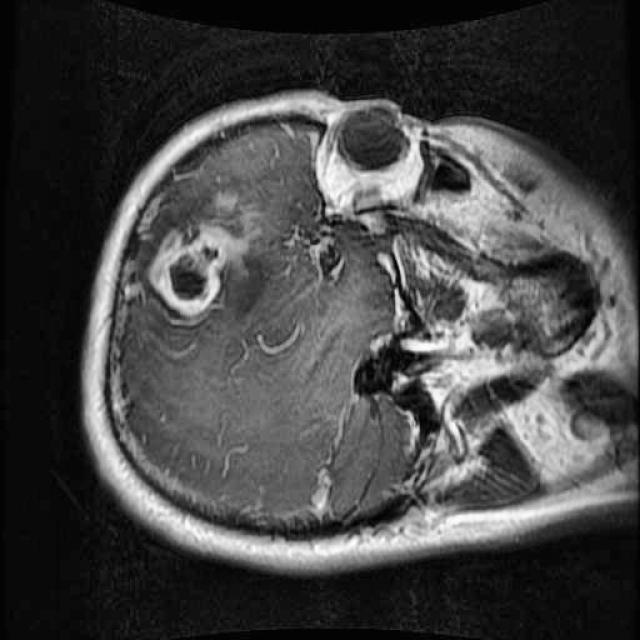Tumor: (126, 192, 288, 348)
